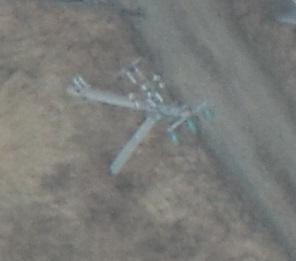opora: (64, 57, 217, 179)
